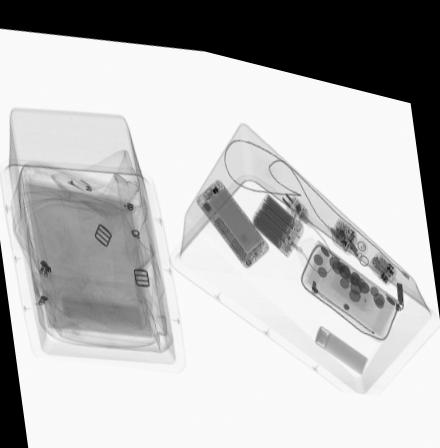Powerbank: (251, 179, 306, 244)
